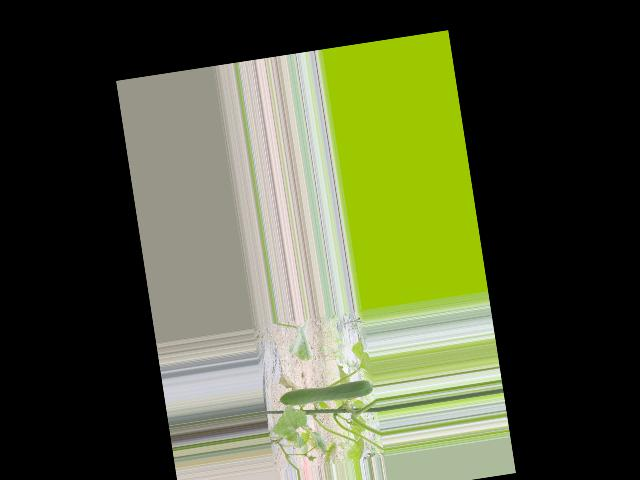cucumber: (275, 378, 373, 409)
